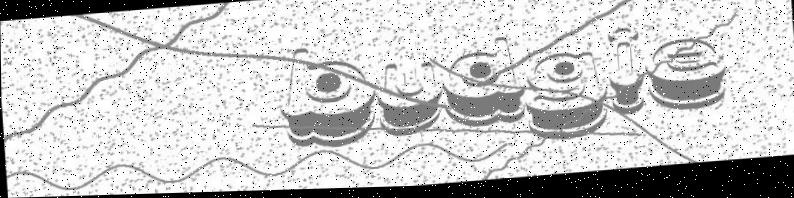b: (275, 43, 377, 153)
d: (437, 36, 528, 131)
e: (642, 39, 727, 117)
g: (521, 51, 610, 147)
i: (604, 29, 646, 120)
u: (377, 61, 441, 140)
